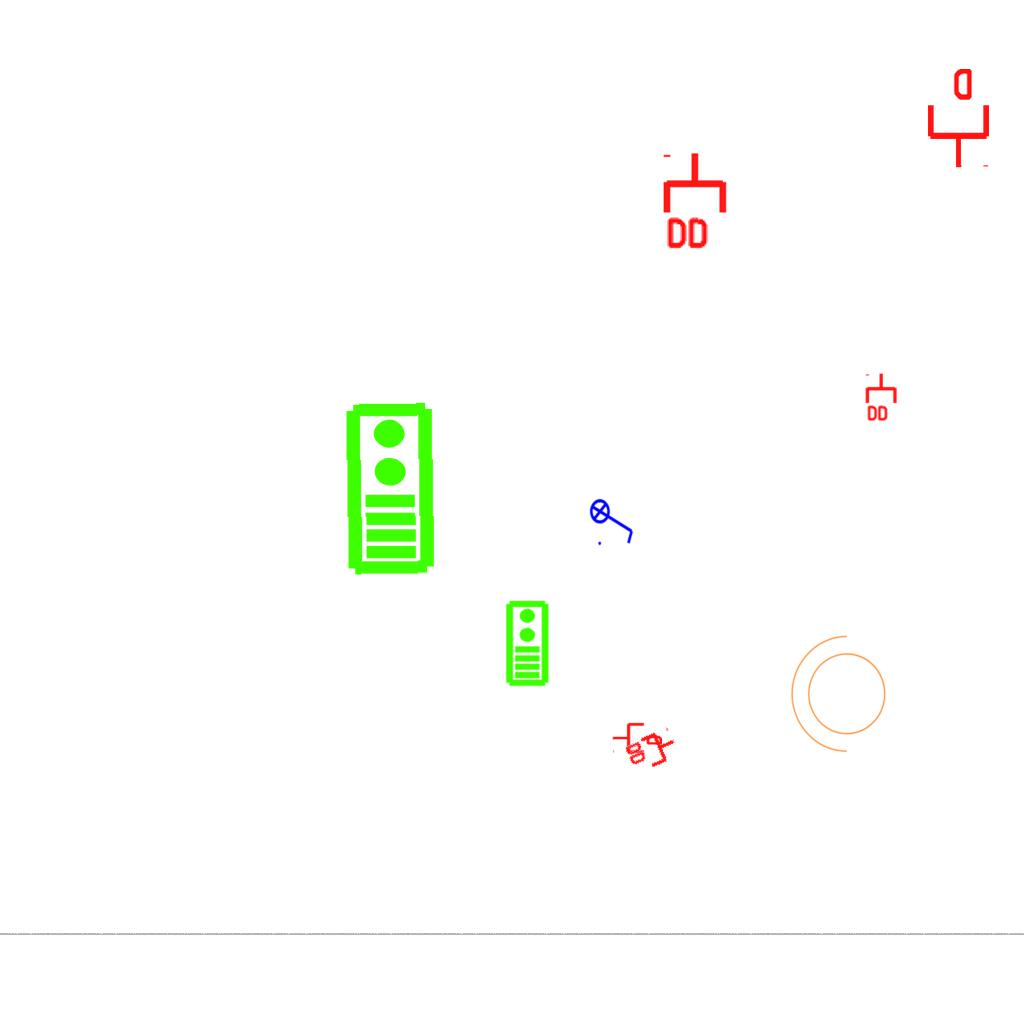Ausschalter_beleuchtet: (589, 492, 637, 548)
Datenanschluss_einfach: (924, 69, 993, 169), (612, 721, 662, 755)
Datenanschluss_zweifach: (662, 150, 731, 253), (621, 725, 683, 778), (865, 372, 899, 423)
Gegensprechanlage_mit_Video: (339, 399, 438, 577), (503, 599, 550, 687)
Scheinwerfer_fuer_Alarmbeleuchtung: (786, 631, 898, 763)
